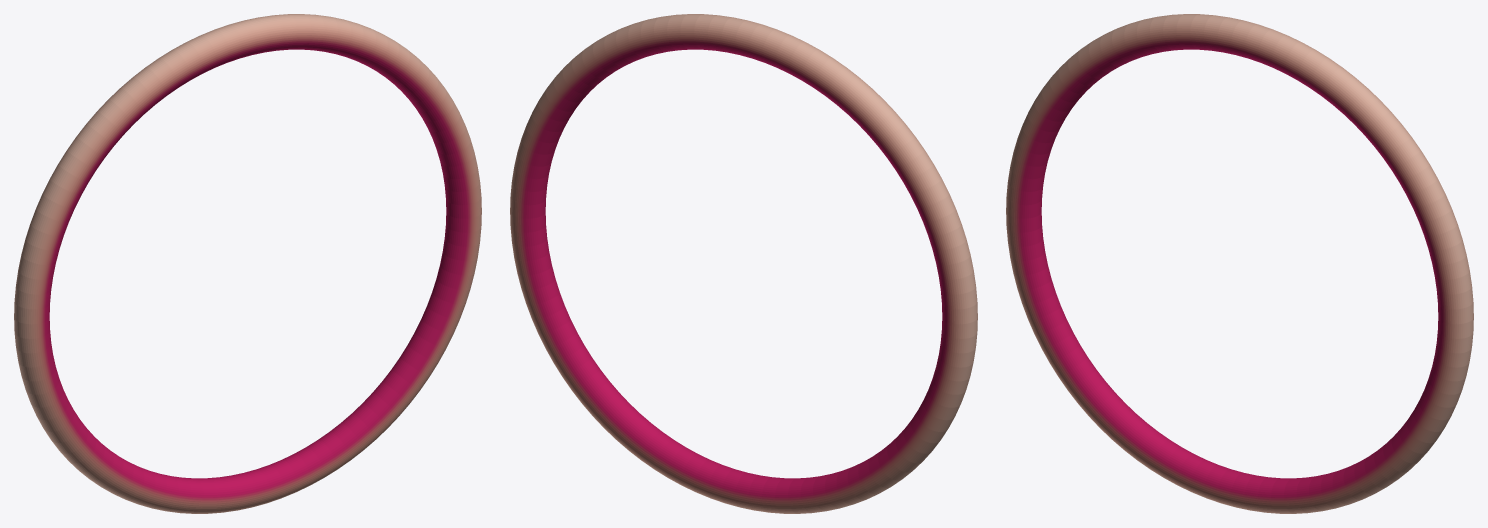
The picture shows the model from 3 angles, left to right: view 1: azimuth 30°, elevation 25°; view 2: azimuth 150°, elevation 25°; view 3: azimuth 330°, elevation 25°; orthographic projection.
Parts seen in each view (by area): view 1: world; view 2: world; view 3: world.
Part boxes in pixels (left/top/right/bottom): world: left=14, top=14, right=481, bottom=513; world: left=510, top=14, right=977, bottom=513; world: left=1006, top=14, right=1473, bottom=513.
Size of the model in its own units: 30 by 30 by 2.
